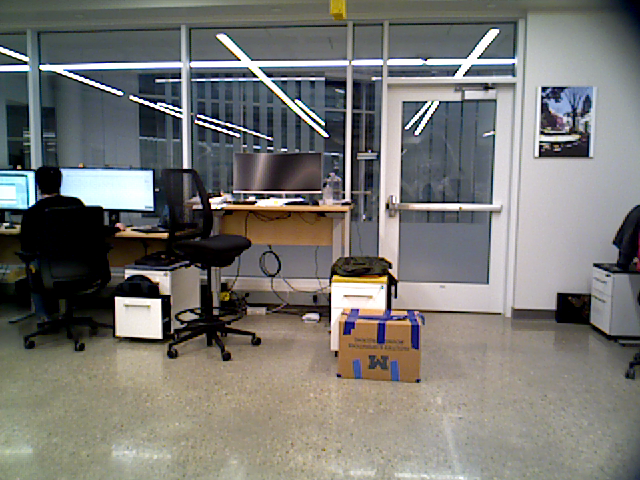painting3: (536, 89, 593, 160)
